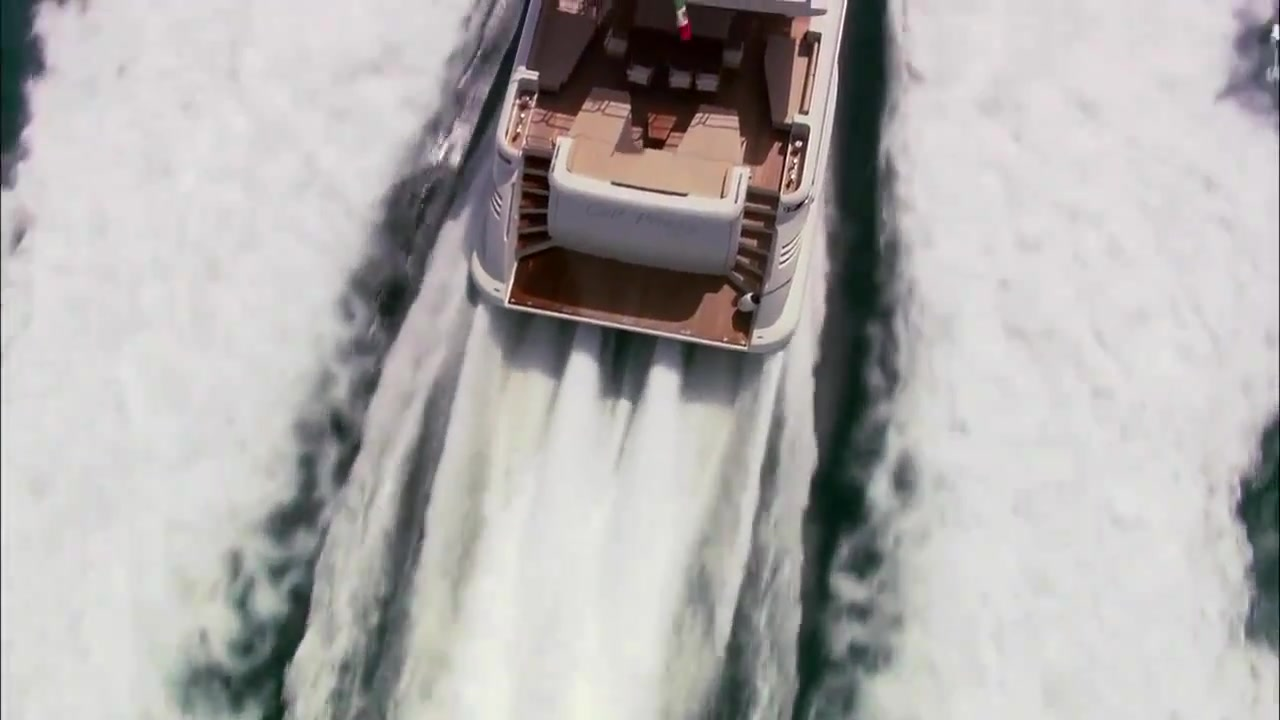boat: (465, 2, 852, 360)
